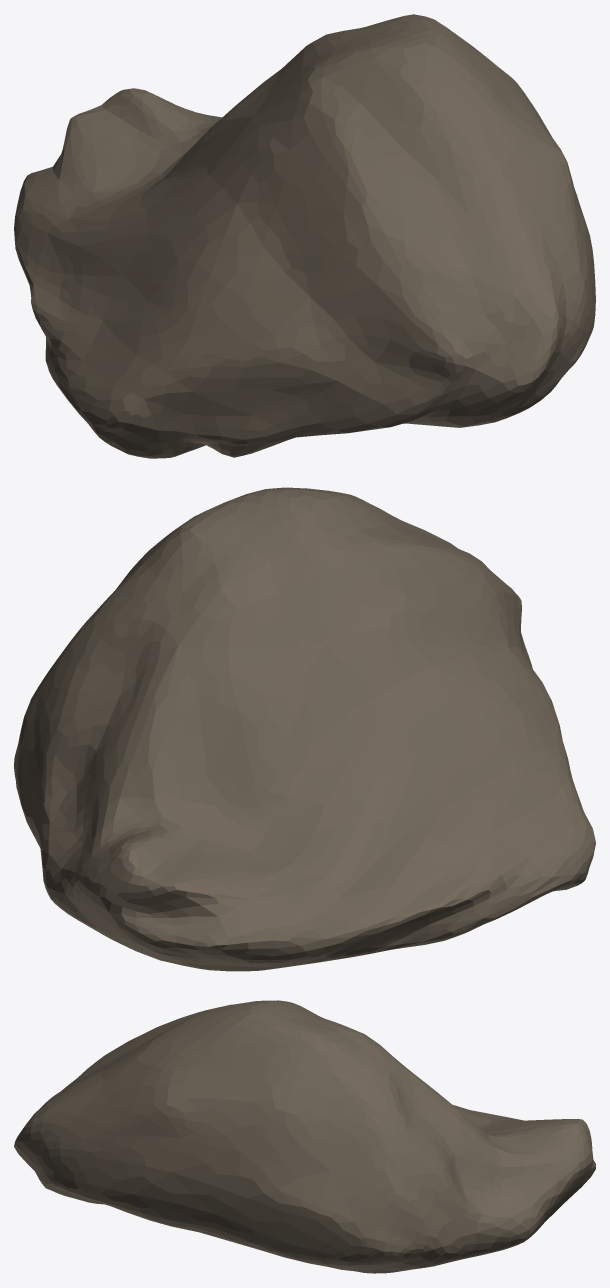
The model's file is rock_2.fbx.
3 renders of one model, top to bottom at view 1: azimuth 30°, elevation 25°; view 2: azimuth 150°, elevation 25°; view 3: azimuth 270°, elevation 25°, orthographic. The views are drawn at different scales.
Parts seen in each view (by area): view 1: rock 2; view 2: rock 2; view 3: rock 2.
Part boxes in pixels (bbox=[...]): rock 2: bbox=[14, 14, 595, 458]; rock 2: bbox=[14, 487, 595, 971]; rock 2: bbox=[14, 1000, 595, 1273].
Size of the model in its own units: 820 by 538 by 1127.
